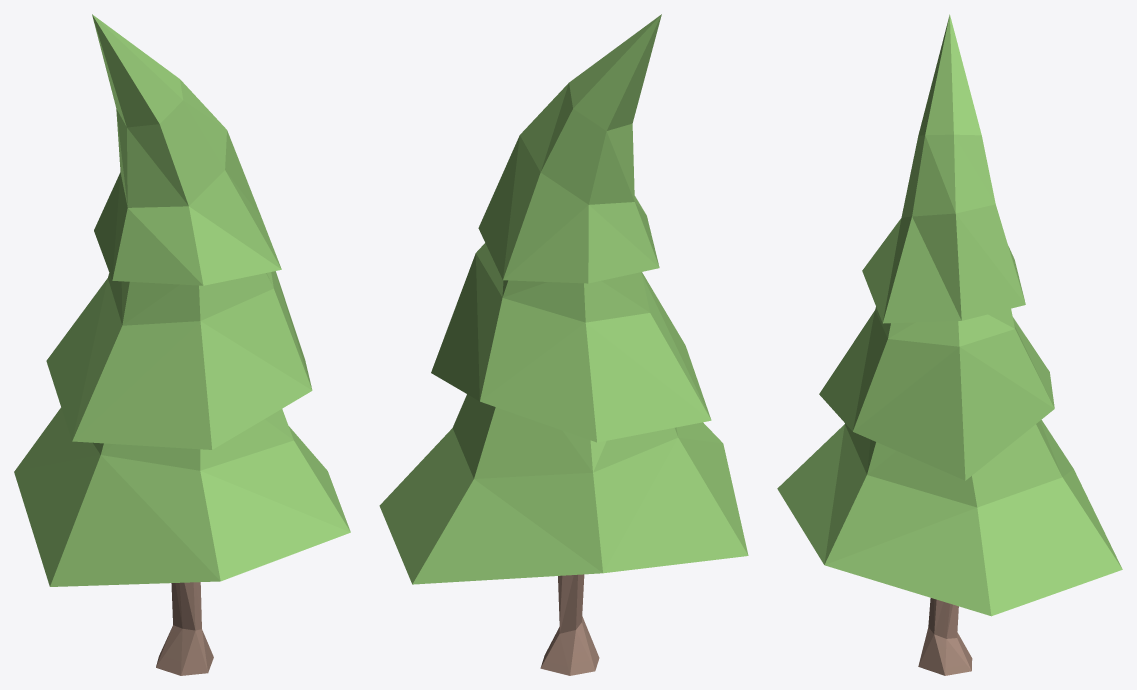
The model's file is fp_tree_knowledge.glb.
3 renders of one model, left to right at view 1: azimuth 30°, elevation 25°; view 2: azimuth 150°, elevation 25°; view 3: azimuth 270°, elevation 25°, orthographic. The views are drawn at different scales.
Parts seen in each view (by area): view 1: tree_e001; view 2: tree_e001; view 3: tree_e001.
Part boxes in pixels (box(x1,y1,x2,y2)): tree_e001: box(14, 14, 350, 675); tree_e001: box(379, 14, 748, 675); tree_e001: box(777, 14, 1122, 675).
Bounding box in the file's own units: 0.8822 × 1.75 × 0.9.
